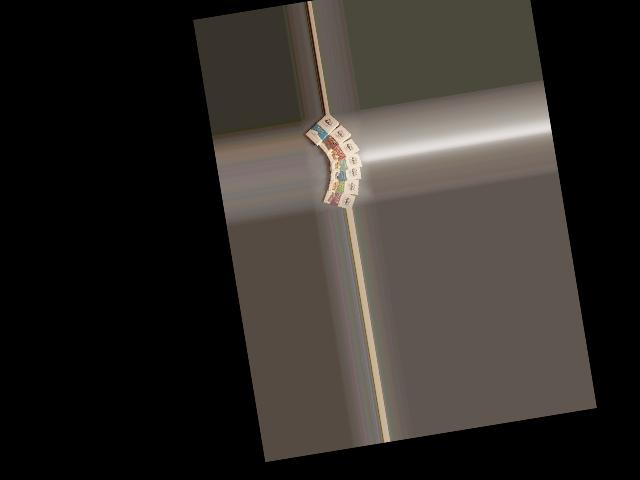chocolate: (300, 113, 343, 147)
